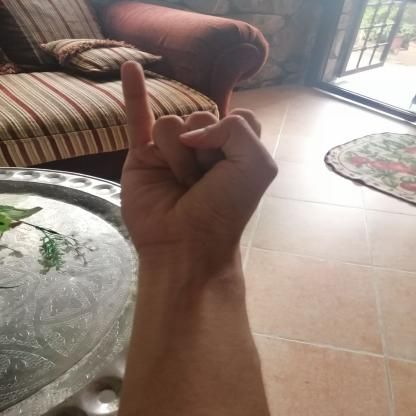MEEM: (94, 48, 291, 264)
